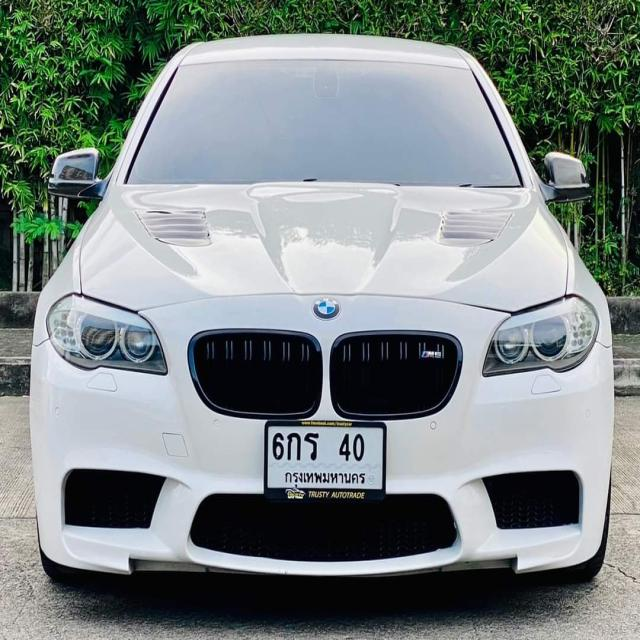license_plate: (263, 420, 387, 504)
